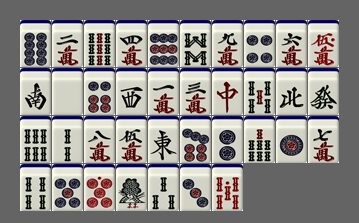0m: (308, 20, 339, 67)
0p: (84, 164, 115, 211)
0s: (212, 164, 243, 211)
1m: (148, 68, 179, 115)
1p: (276, 116, 307, 163)
1s: (116, 164, 147, 211)
1z: (148, 116, 179, 163)
2m: (52, 20, 83, 67)
2p: (212, 116, 243, 163)
2s: (52, 116, 83, 163)
2z: (20, 68, 51, 115)
3m: (180, 68, 211, 115)
3p: (180, 164, 211, 211)
3s: (148, 164, 179, 211)
3z: (116, 68, 147, 115)
4m: (116, 20, 147, 67)
4p: (244, 20, 275, 67)
4s: (20, 164, 51, 211)
4z: (276, 68, 307, 115)
5m: (116, 116, 147, 163)
5p: (52, 164, 83, 211)
5s: (244, 68, 275, 115)
5z: (52, 68, 83, 115)
6m: (276, 20, 307, 67)
6p: (84, 68, 115, 115)
6s: (20, 116, 51, 163)
6z: (308, 68, 339, 115)
7m: (308, 116, 339, 163)
7p: (180, 116, 211, 163)
7s: (244, 116, 275, 163)
7z: (212, 68, 243, 115)
8m: (84, 116, 115, 163)
8p: (20, 20, 51, 67)
8s: (180, 20, 211, 67)
9m: (212, 20, 243, 67)
9p: (148, 20, 179, 67)
9s: (84, 20, 115, 67)
